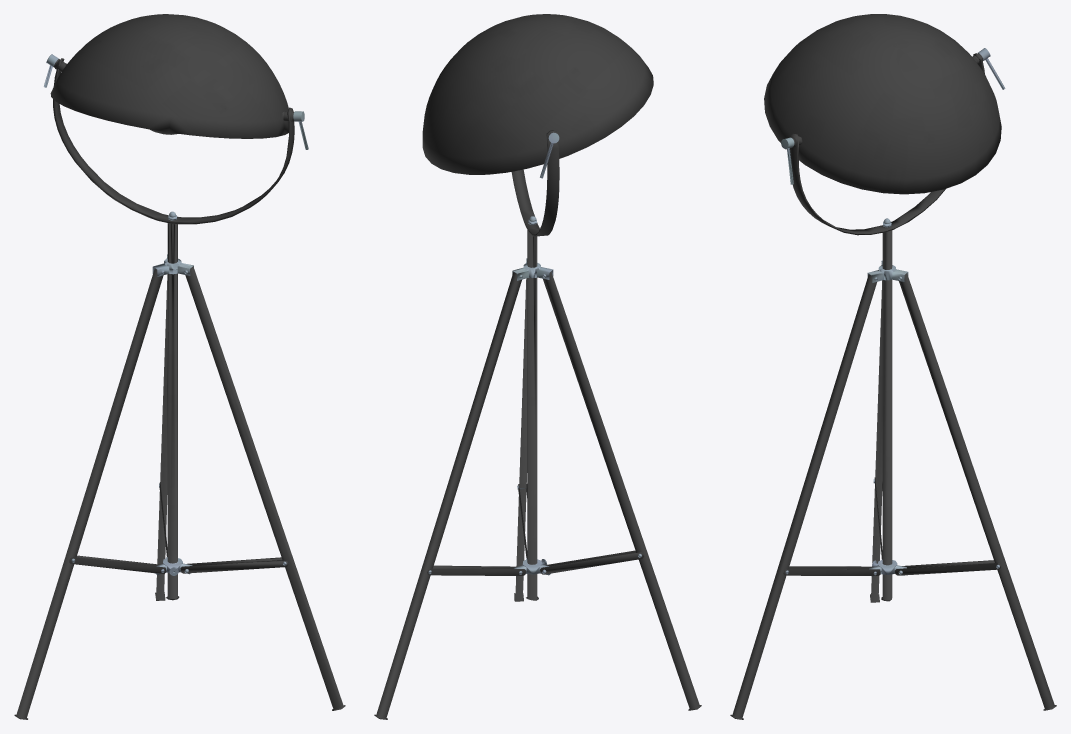
The model's file is lamp_tripod.glb.
3 views of the same model, side by side, from view 1: azimuth 30°, elevation 25°; view 2: azimuth 150°, elevation 25°; view 3: azimuth 270°, elevation 25° (orthographic).
Visible parts, largest first — view 1: defaultMaterial (×2); view 2: defaultMaterial (×2); view 3: defaultMaterial (×2).
Part boxes in pixels (left/top/right/bottom): defaultMaterial (×2): left=14, top=14, right=345, bottom=719; defaultMaterial (×2): left=374, top=14, right=701, bottom=719; defaultMaterial (×2): left=730, top=14, right=1056, bottom=719.
Size of what is drawn, in the model's own units: 0.6667 by 1.6 by 0.7327.
Materials: 5 (3 with a texture image).
